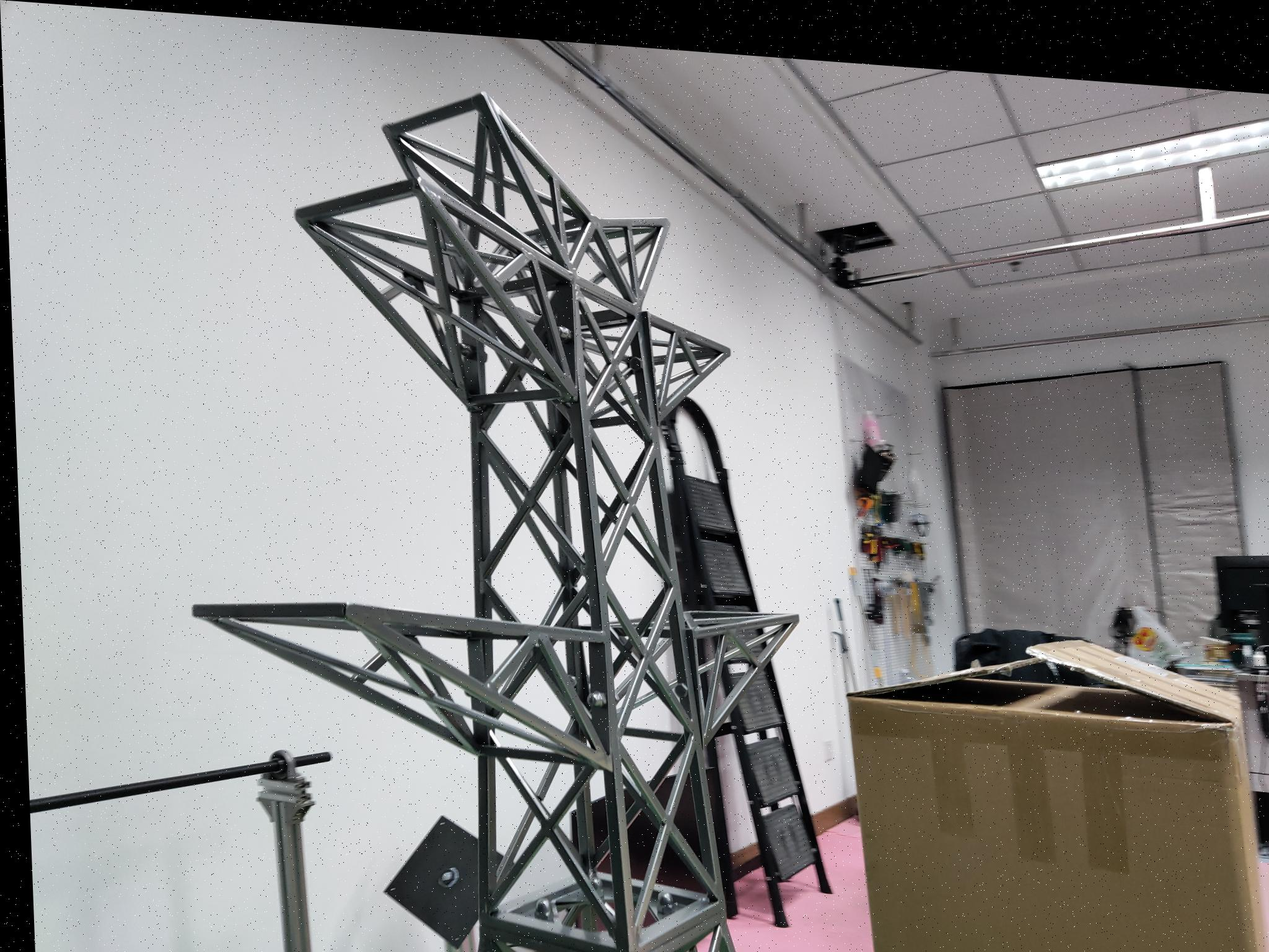tower: (167, 67, 818, 952)
